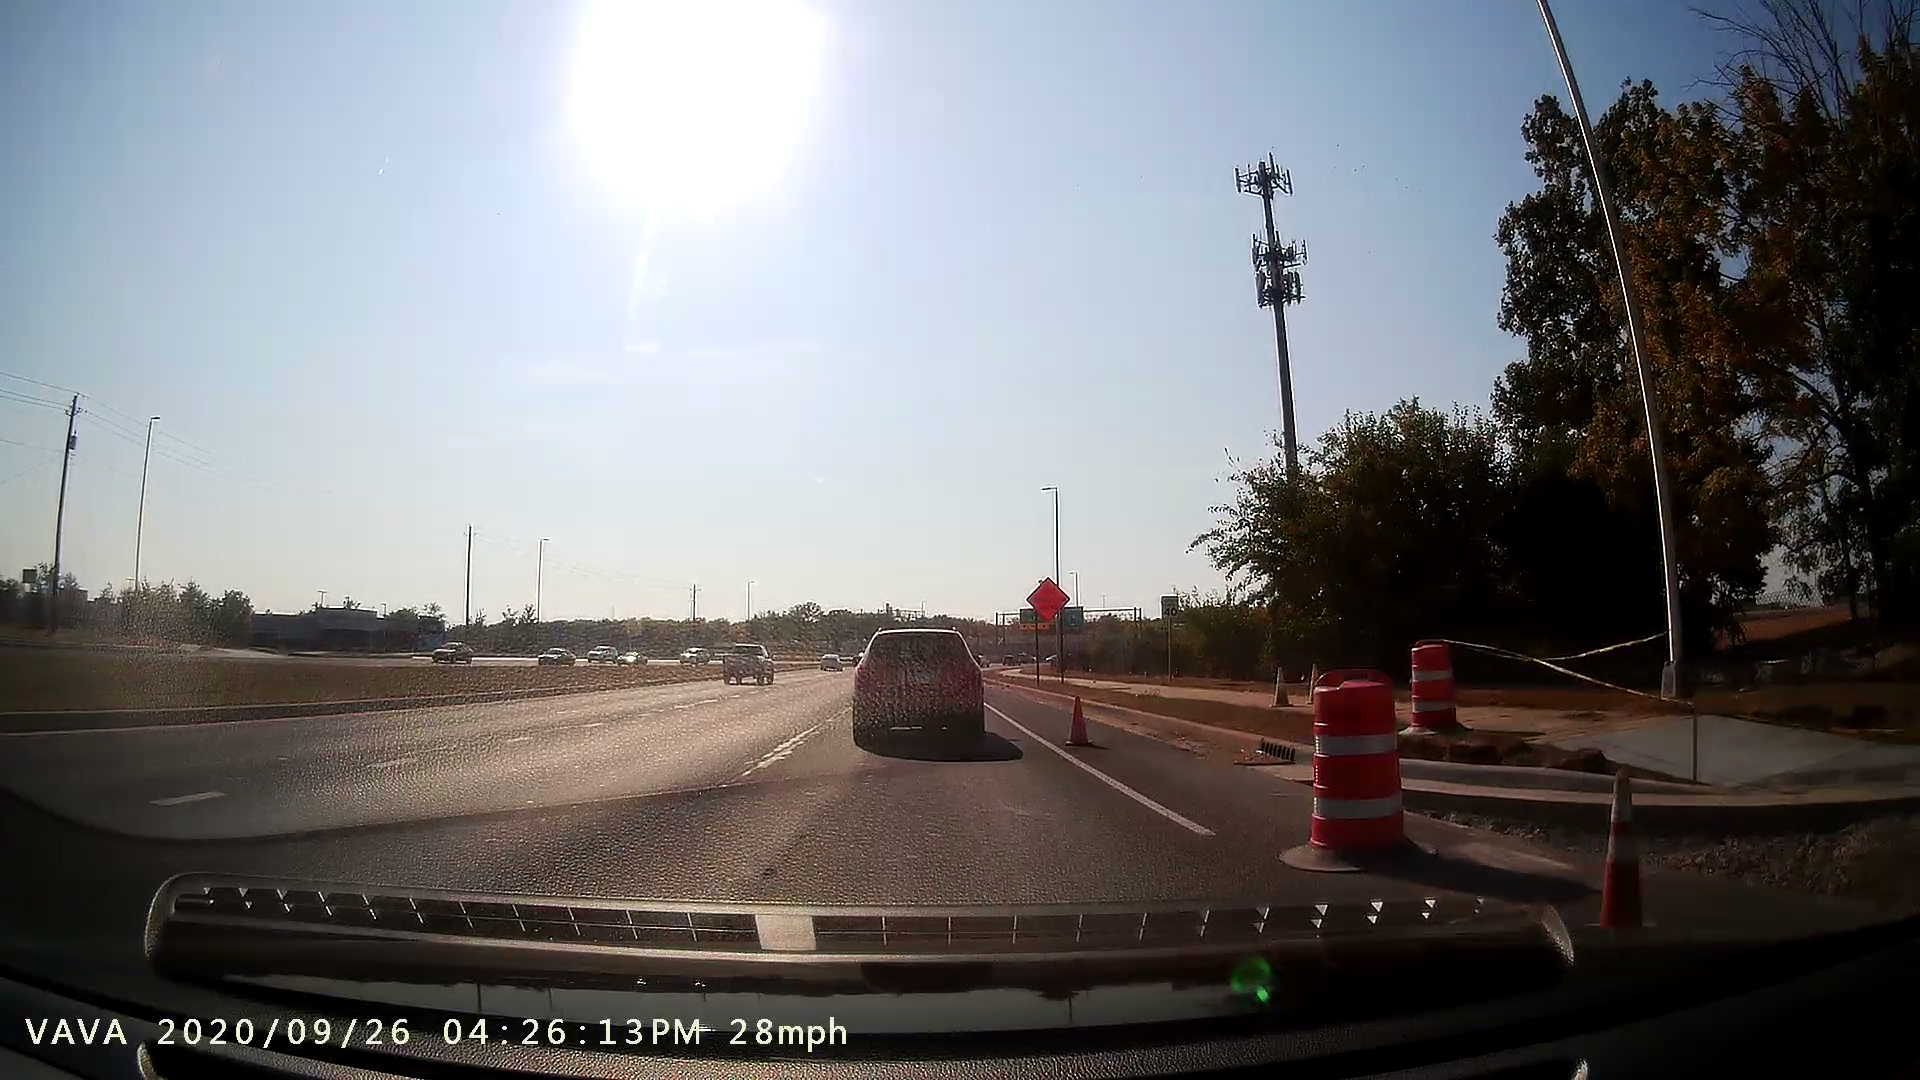const_barrel: (1278, 673, 1435, 876)
const_cone: (1054, 679, 1110, 760)
